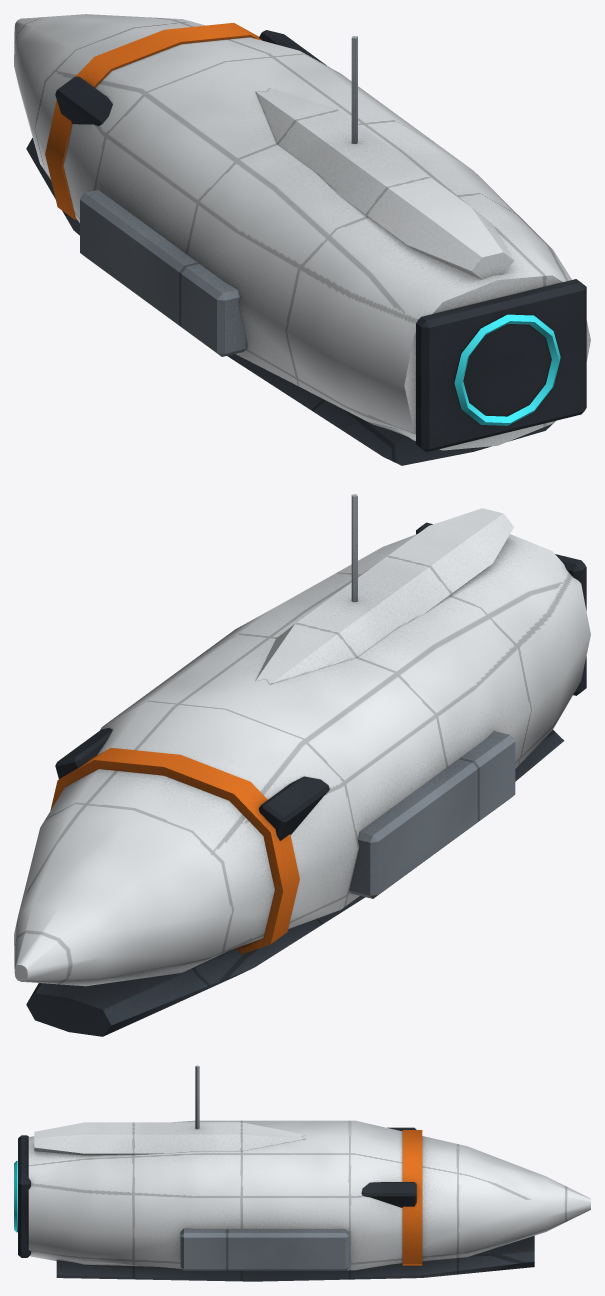
The model's file is casco_nave_pequeno.fbx.
3 renders of one model, top to bottom at view 1: azimuth 30°, elevation 25°; view 2: azimuth 150°, elevation 25°; view 3: azimuth 270°, elevation 25°, orthographic. The views are drawn at different scales.
Parts seen in each view (by area): view 1: casco_nave_pequeno, casco_nave_pequeno_neon; view 2: casco_nave_pequeno; view 3: casco_nave_pequeno.
Part boxes in pixels (x1=…): casco_nave_pequeno: x1=14, y1=14, x2=590, y2=465; casco_nave_pequeno_neon: x1=454, y1=314, x2=560, y2=425; casco_nave_pequeno: x1=14, y1=494, x2=590, y2=1036; casco_nave_pequeno: x1=18, y1=1065, x2=590, y2=1281.
Bounding box in the file's own units: 4.7 × 4.93 × 13.34.
Materials: 2 (2 with a texture image).
